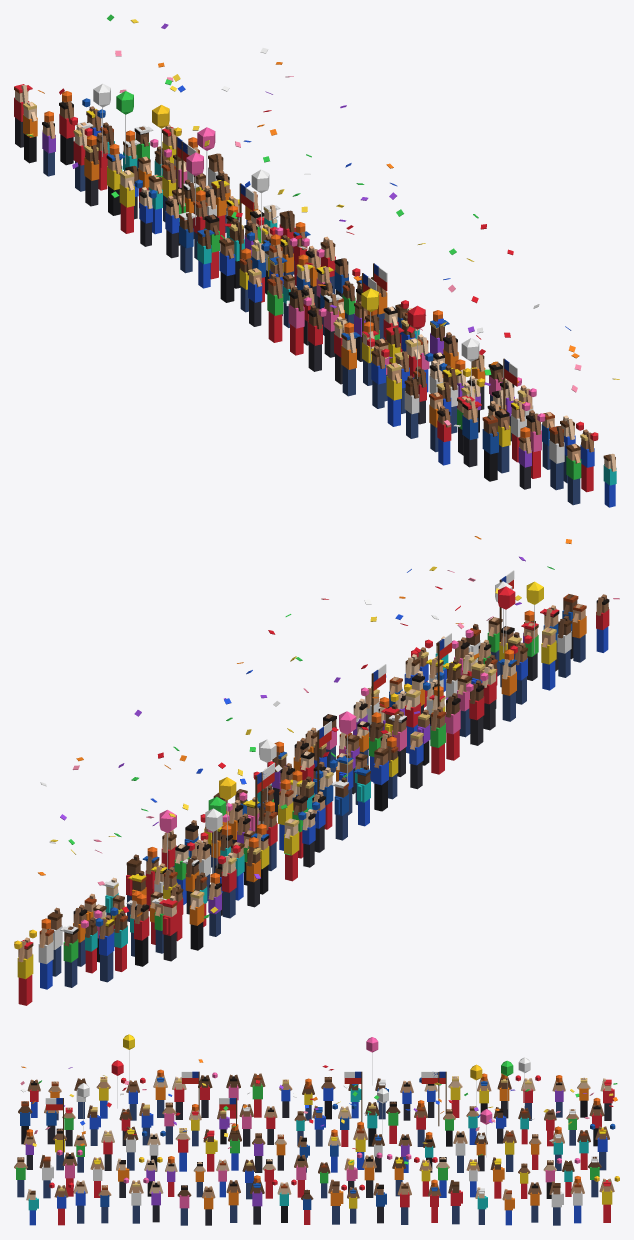
File: ninos_graderia_0.obj
3 views of the same model, one above another, from view 1: azimuth 30°, elevation 25°; view 2: azimuth 150°, elevation 25°; view 3: azimuth 270°, elevation 25° (orthographic). The views are drawn at different scales.
Parts seen in each view (by area): view 1: ninos_graderia_0; view 2: ninos_graderia_0; view 3: ninos_graderia_0.
Part boxes in pixels (box(x1,y1,x2,y2)): ninos_graderia_0: box(14, 14, 619, 507); ninos_graderia_0: box(14, 536, 619, 1005); ninos_graderia_0: box(14, 1034, 619, 1225).
Bounding box in the file's own units: 4.89 × 4.51 × 18.22.
